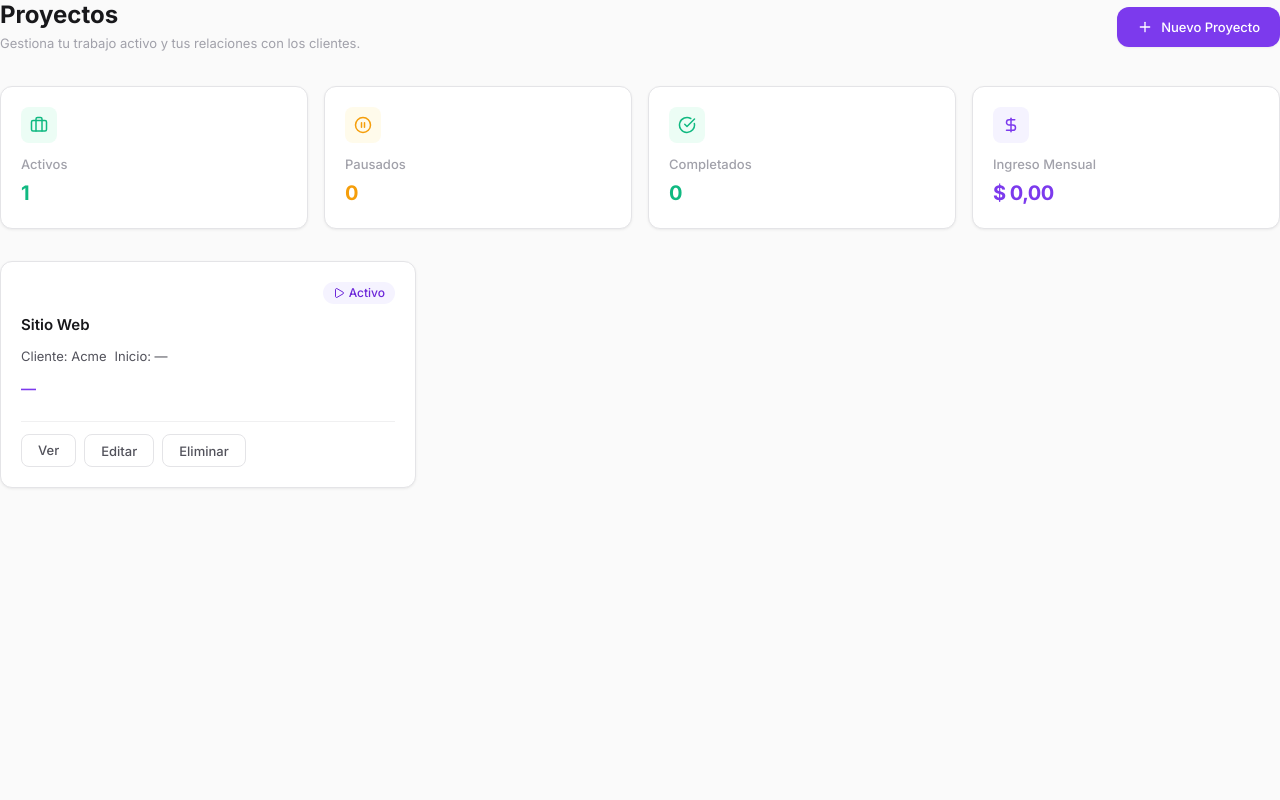
Test: ProjectsPage — delete confirmation › blocks deletion and explains when the project has payments, instead of the normal confirm dialog
Click the button "Eliminar" at (204, 451), box 162,434 -> 246,467
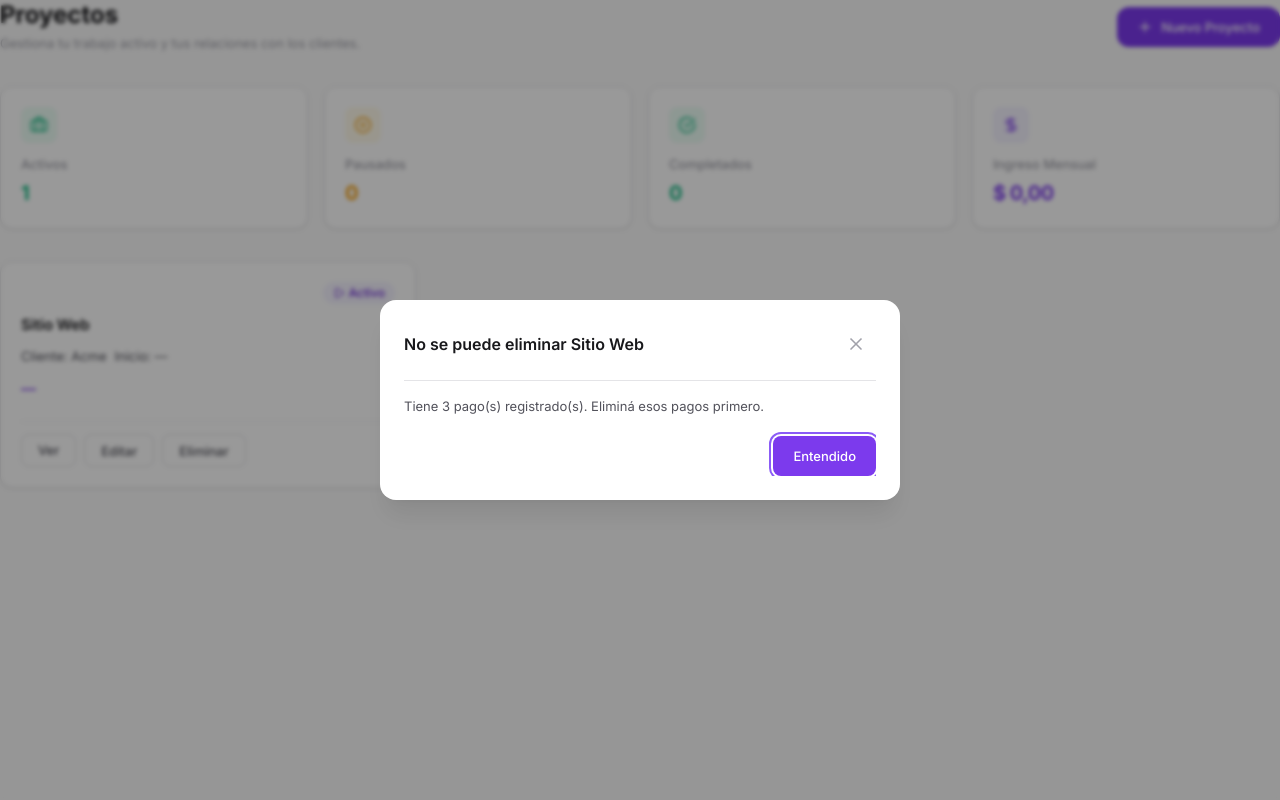
Now the heading "No se puede eliminar Sitio Web" is shown, box 404,334 -> 644,354
Now the text "Tiene 3 pago(s) registrado(s). Eliminá esos pagos primero." is shown, box 404,398 -> 764,414
Now the button "Entendido" is shown, box 773,436 -> 876,476
